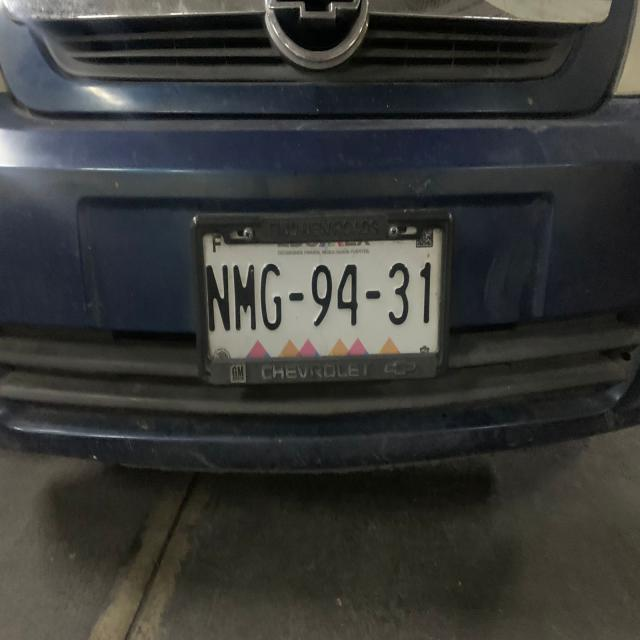placa: (200, 252, 438, 338)
